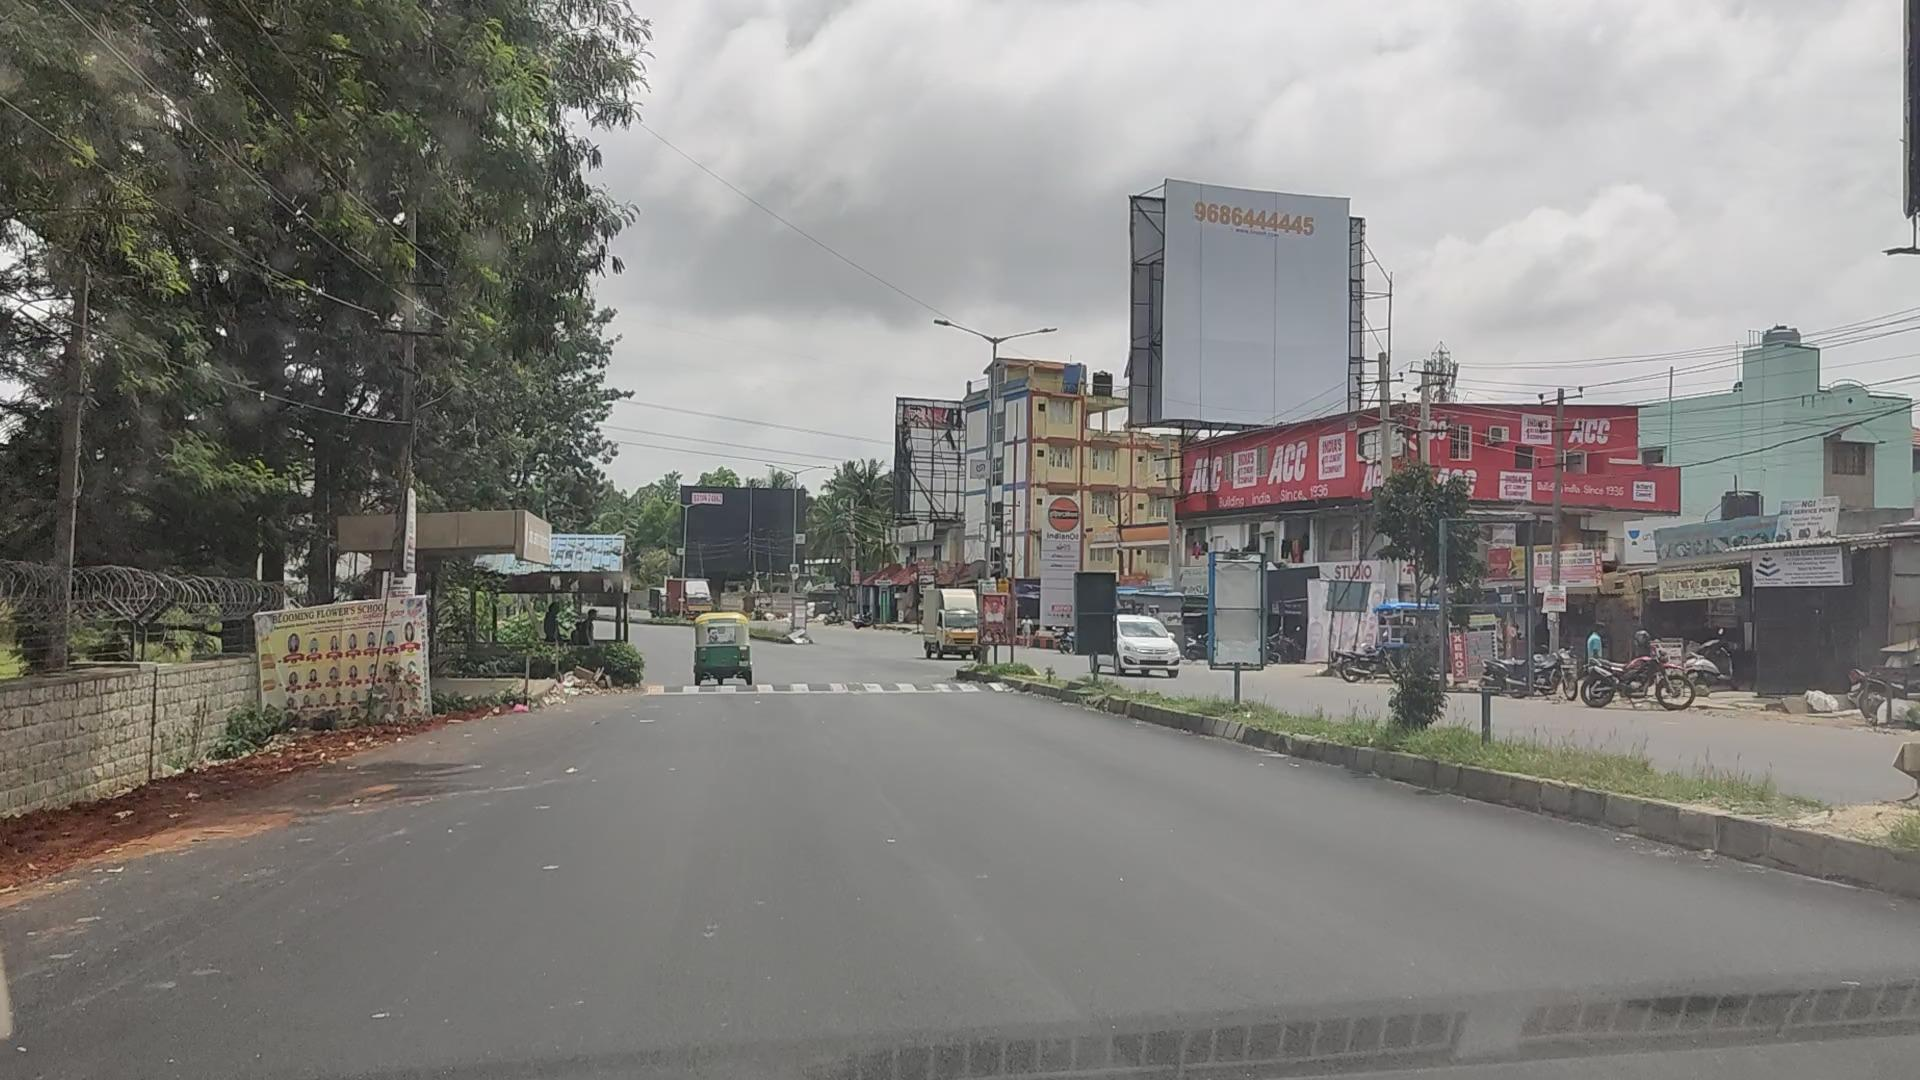LMV: (691, 611, 753, 686)
SpeedBump: (644, 678, 993, 700)
